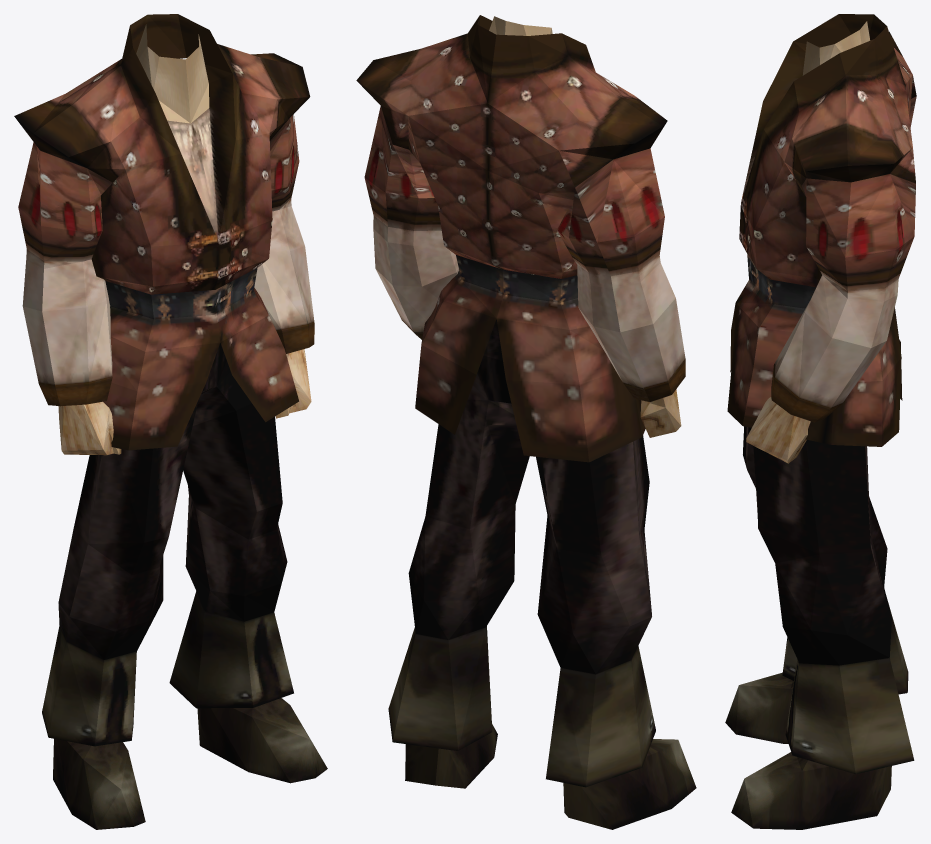
Rendered from Armor_VLK_L.glb.
3 views of the same model, side by side, from view 1: azimuth 30°, elevation 25°; view 2: azimuth 150°, elevation 25°; view 3: azimuth 270°, elevation 25° (orthographic). The views are drawn at different scales.
Visible parts, largest first — view 1: Armor_VLK_Lzm_Body; view 2: Armor_VLK_Lzm_Body; view 3: Armor_VLK_Lzm_Body.
Part boxes in pixels (left/top/right/bottom): Armor_VLK_Lzm_Body: left=14, top=14, right=327, bottom=829; Armor_VLK_Lzm_Body: left=356, top=15, right=696, bottom=829; Armor_VLK_Lzm_Body: left=725, top=14, right=916, bottom=829.
Size of the model in its own units: 0.6514 by 1.69 by 0.3884.
2 materials, 2 textured.
